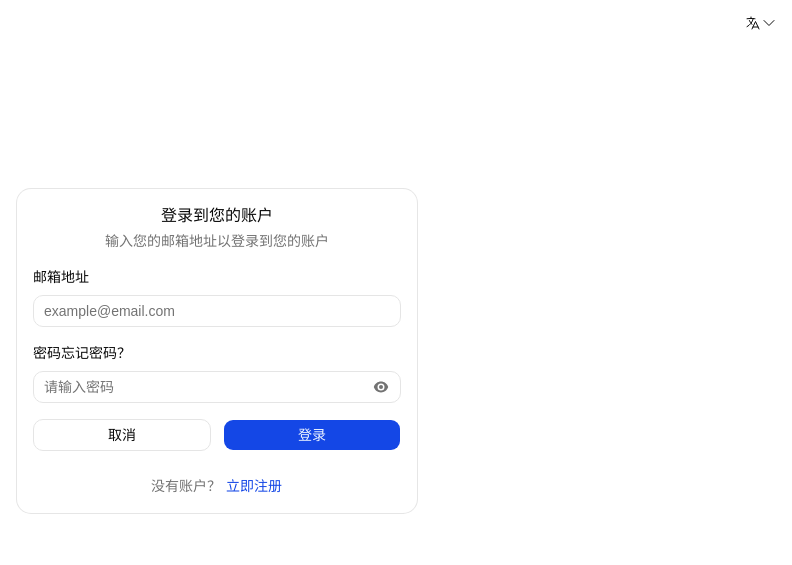
Test: SignInPage › 表单提交 › 应该显示错误消息（登录失败时）
Type "user@example.com" into the field labelled "邮箱地址". click: [217, 311]
box: [33,295,401,327]
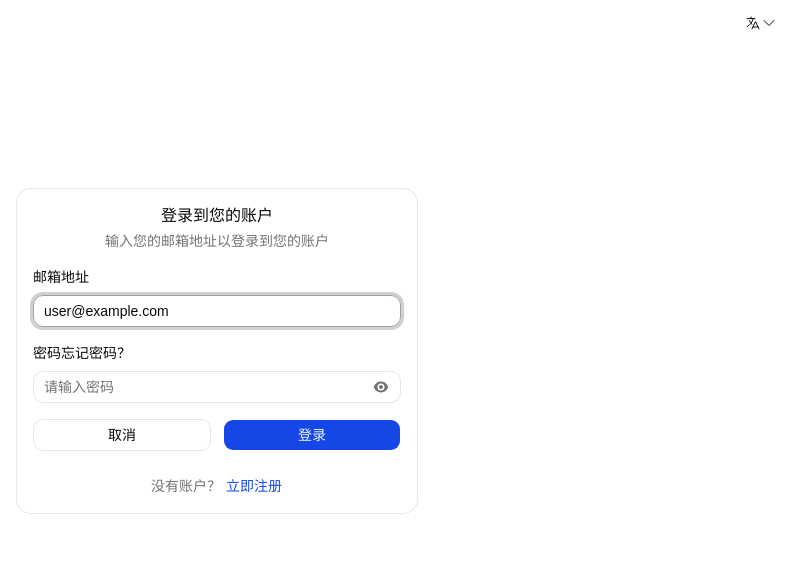
Type "password123" into the password field labelled "密码". click: [217, 387]
box: [33,371,401,403]
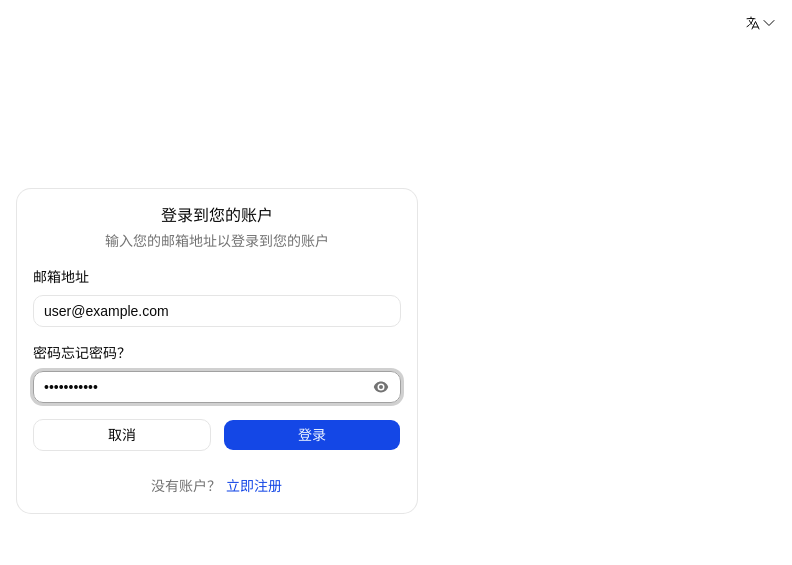
Click the button "登录". click: [312, 435]
box: [223,419,401,451]
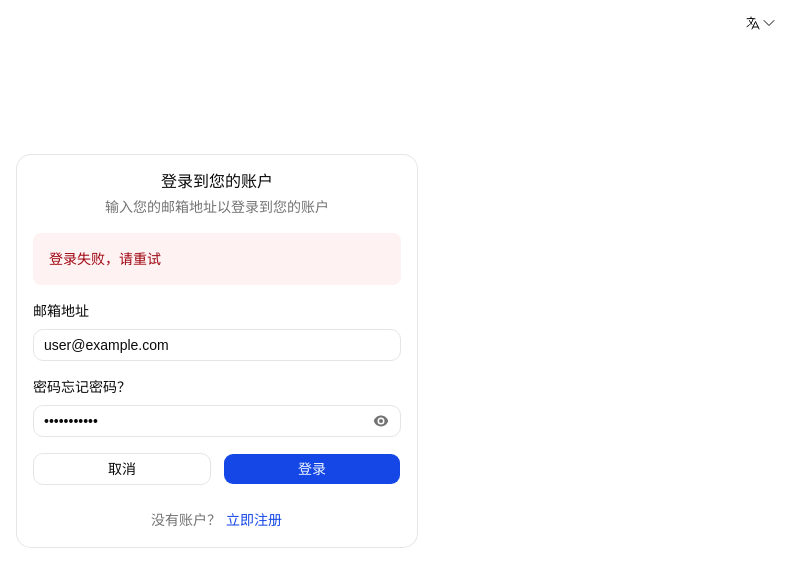
Check: the message reads "登录失败，请重试", box [49,251,161,267]
